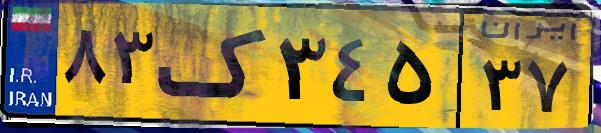3: (270, 28, 330, 110), (475, 38, 525, 113), (110, 28, 158, 98)
4: (330, 28, 385, 110)
5: (385, 28, 445, 110)
7: (525, 38, 570, 115)
8: (57, 26, 110, 100)
ک: (158, 12, 270, 120)
